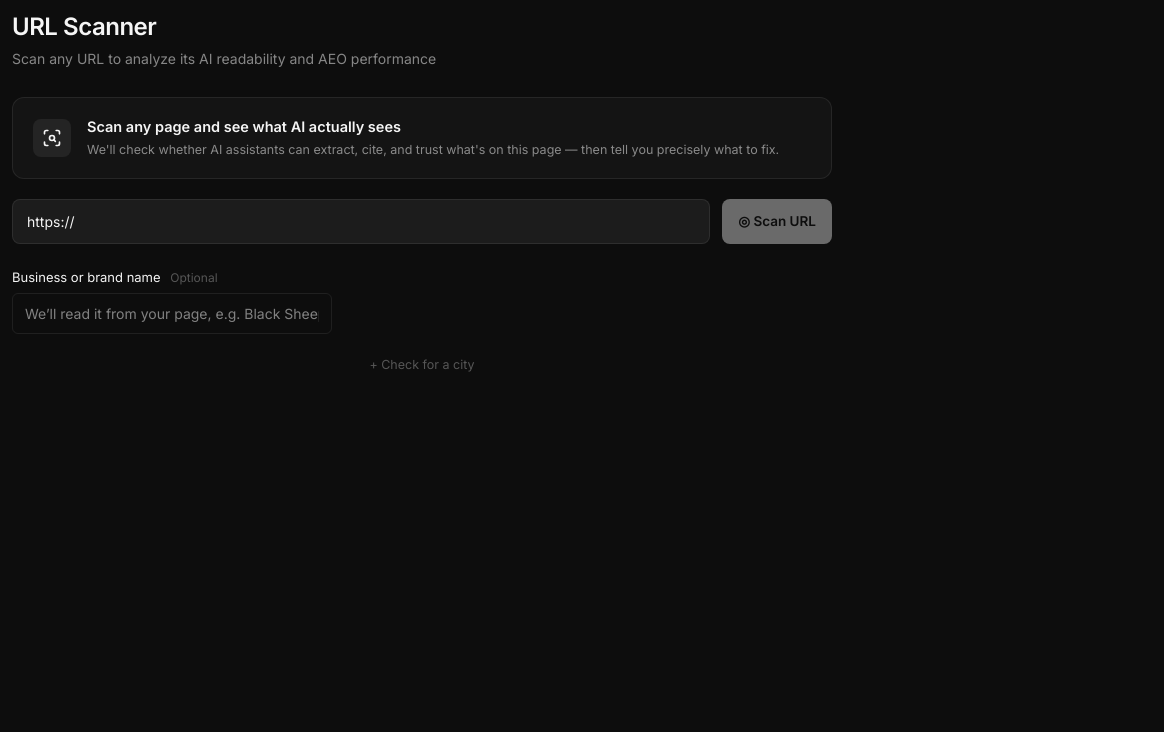
Test: running a URL check › shows scanning and blocks a second run while the check is in progress
Replace the text in the field with placeholder "https://yourstore.com/product" with "acme.com": (361, 221) [12, 198, 710, 244]
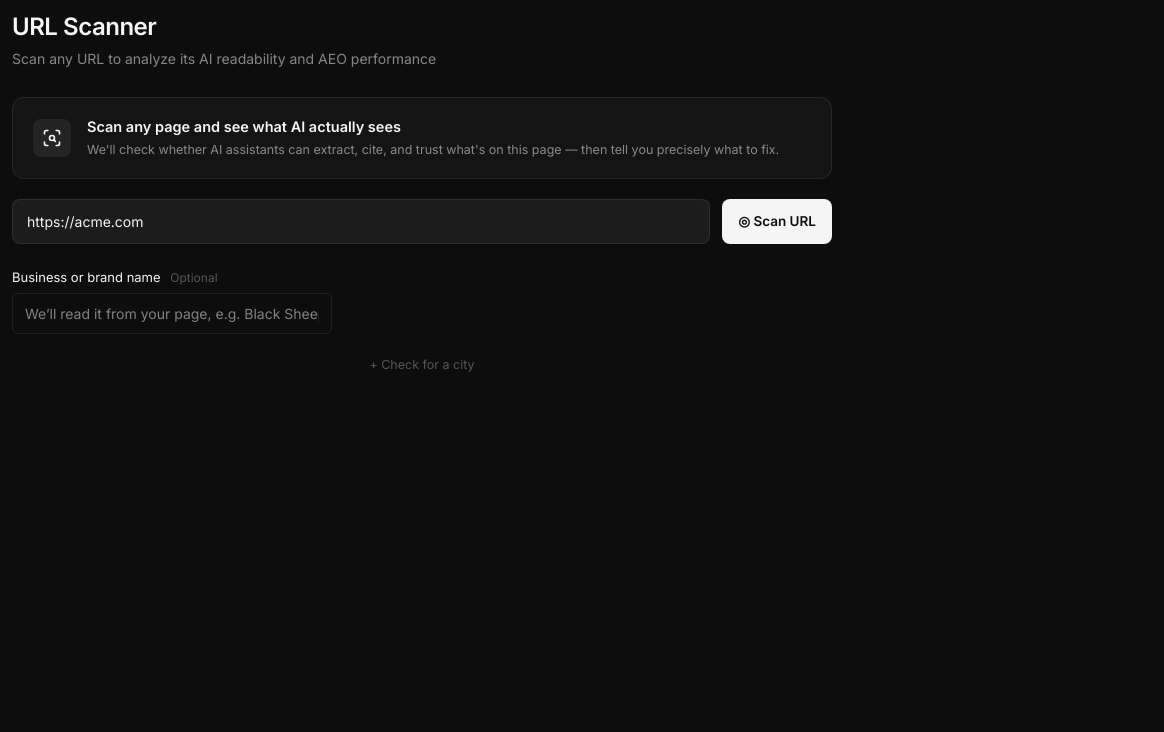
Click the button "◎ Scan URL": (777, 221) [722, 198, 832, 244]
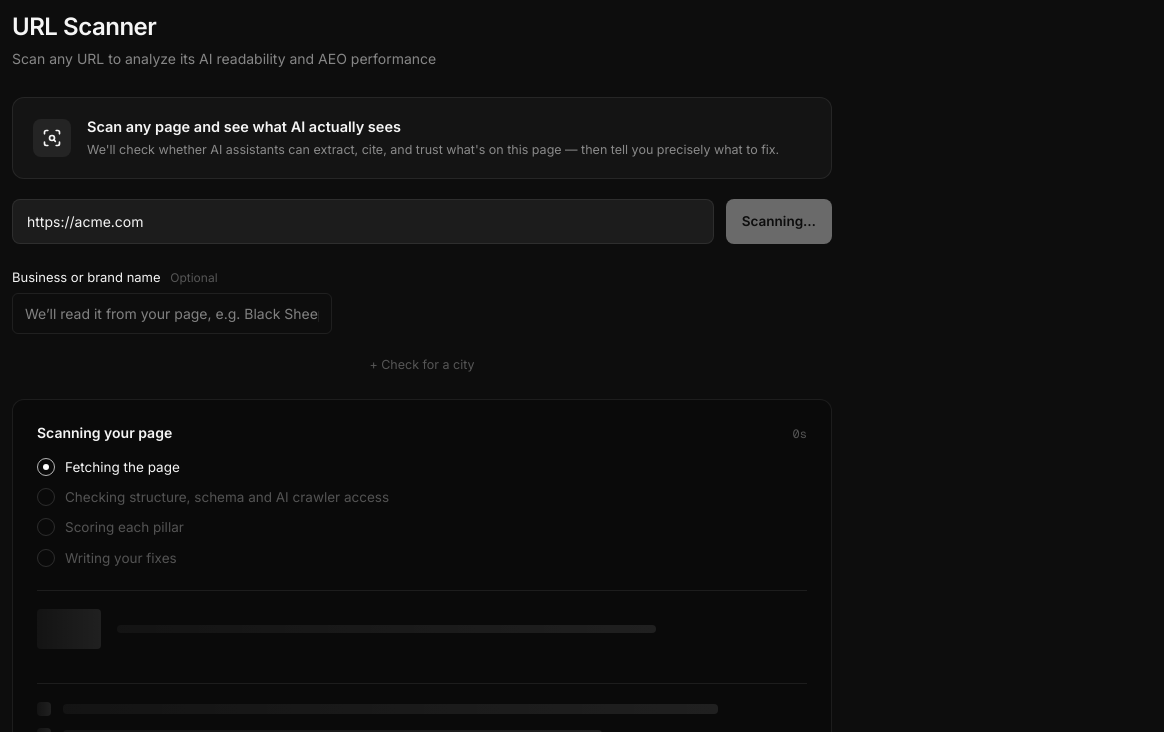
Now the button "Scanning…" is disabled, box [726, 198, 832, 244]
